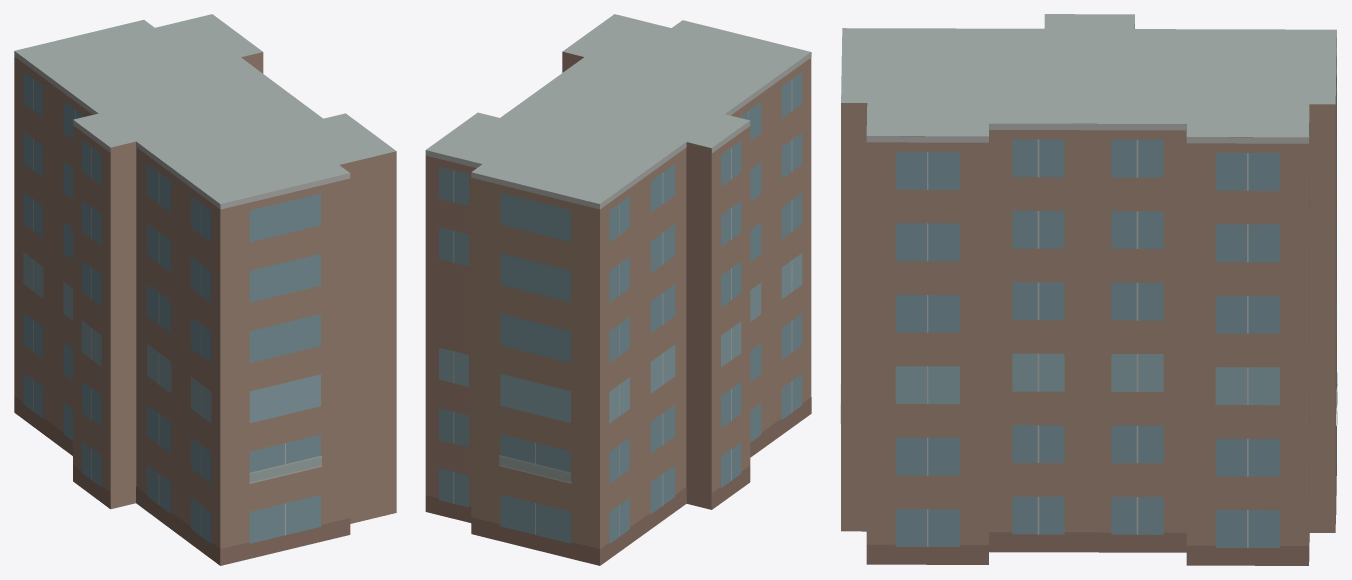
The model's file is survey-upis-32638436.glb.
3 views of the same model, side by side, from view 1: azimuth 30°, elevation 25°; view 2: azimuth 150°, elevation 25°; view 3: azimuth 270°, elevation 25° (orthographic). The views are drawn at different scales.
Parts seen in each view (by area): view 1: survey-upis-32638436.tmp; view 2: survey-upis-32638436.tmp; view 3: survey-upis-32638436.tmp.
Boxes of the visible parts, bbox=[...] form: survey-upis-32638436.tmp: bbox=[14, 14, 396, 565]; survey-upis-32638436.tmp: bbox=[425, 14, 811, 565]; survey-upis-32638436.tmp: bbox=[840, 14, 1337, 565].
Size of the model in its own units: 10.07 by 16.3 by 17.15.
